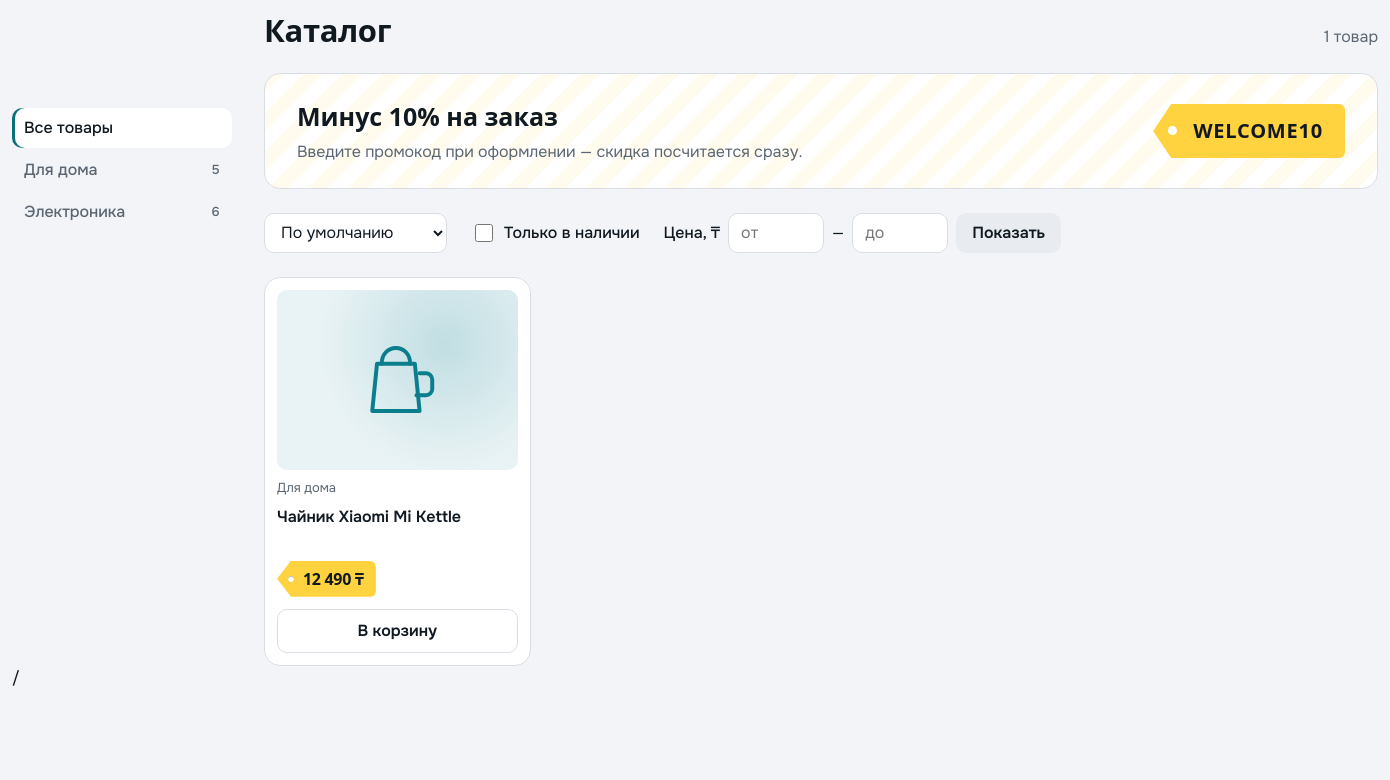
клик по промокоду копирует его
This screenshot has width=1390, height=780.
Click the button "WELCOME10".
click(1249, 131)  # box [1153,104,1345,158]
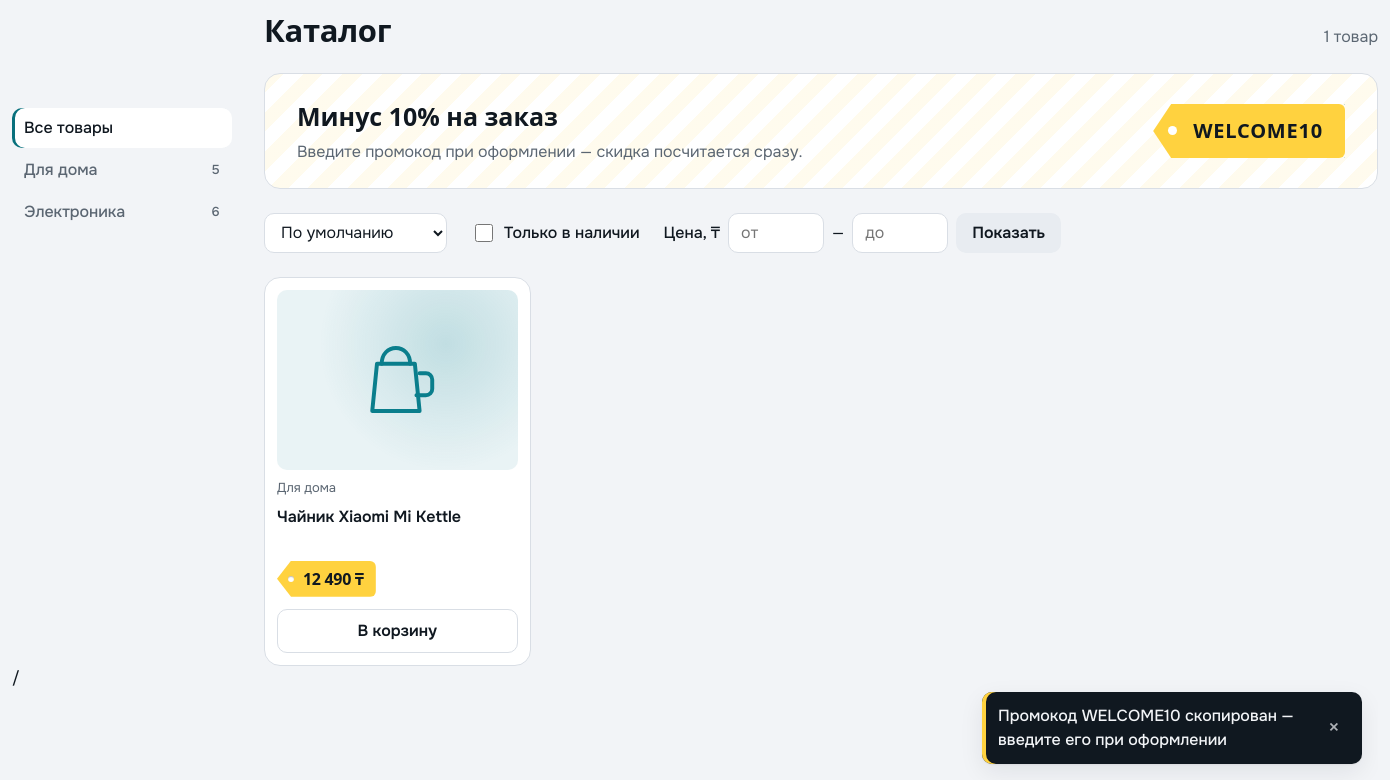
expect the element with test id "toast" shows "скопирован": met, box [998,705,1294,750]
